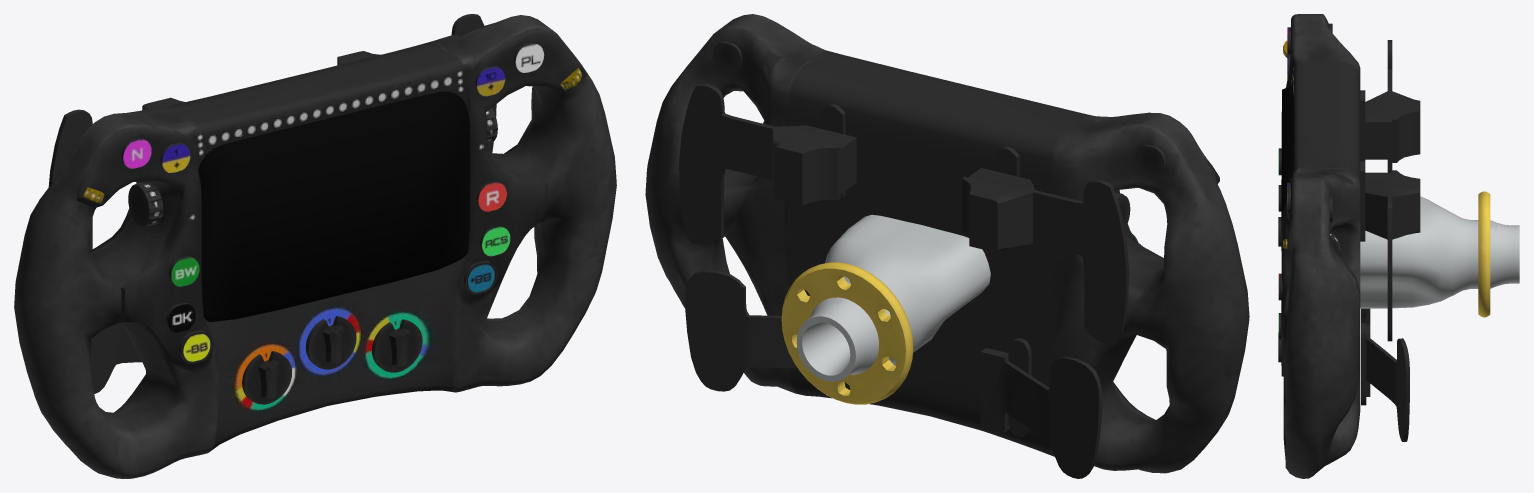
The model's file is deco_volante.glb.
The picture shows the model from 3 angles, left to right: view 1: azimuth 30°, elevation 25°; view 2: azimuth 150°, elevation 25°; view 3: azimuth 270°, elevation 25°; orthographic projection. The views are drawn at different scales.
Parts seen in each view (by area): view 1: Volante_High__0; view 2: Volante_High__0; view 3: Volante_High__0.
Boxes of the visible parts, bbox=[...] form: Volante_High__0: bbox=[14, 14, 616, 478]; Volante_High__0: bbox=[645, 14, 1249, 478]; Volante_High__0: bbox=[1278, 14, 1519, 478].
Size of the model in its own units: 0.3168 by 0.1816 by 0.1343.
Materials: 1 (1 with a texture image).
